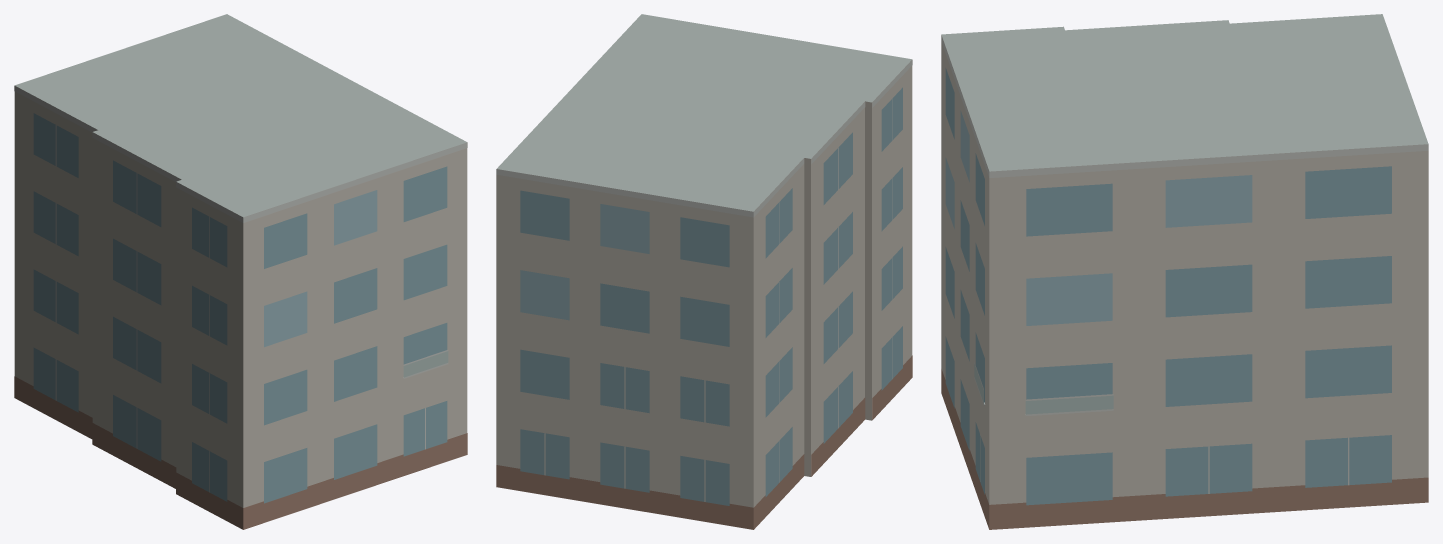
The model's file is survey-upis-32820571.glb.
3 views of the same model, side by side, from view 1: azimuth 30°, elevation 25°; view 2: azimuth 150°, elevation 25°; view 3: azimuth 270°, elevation 25° (orthographic). The views are drawn at different scales.
Parts seen in each view (by area): view 1: survey-upis-32820571.tmp; view 2: survey-upis-32820571.tmp; view 3: survey-upis-32820571.tmp.
Part boxes in pixels (x1,y1,x2,y2): survey-upis-32820571.tmp: (14,14,467,529); survey-upis-32820571.tmp: (496,14,912,529); survey-upis-32820571.tmp: (941,14,1428,529).
Bounding box in the file's own units: 12.55 × 13.3 × 16.4.
